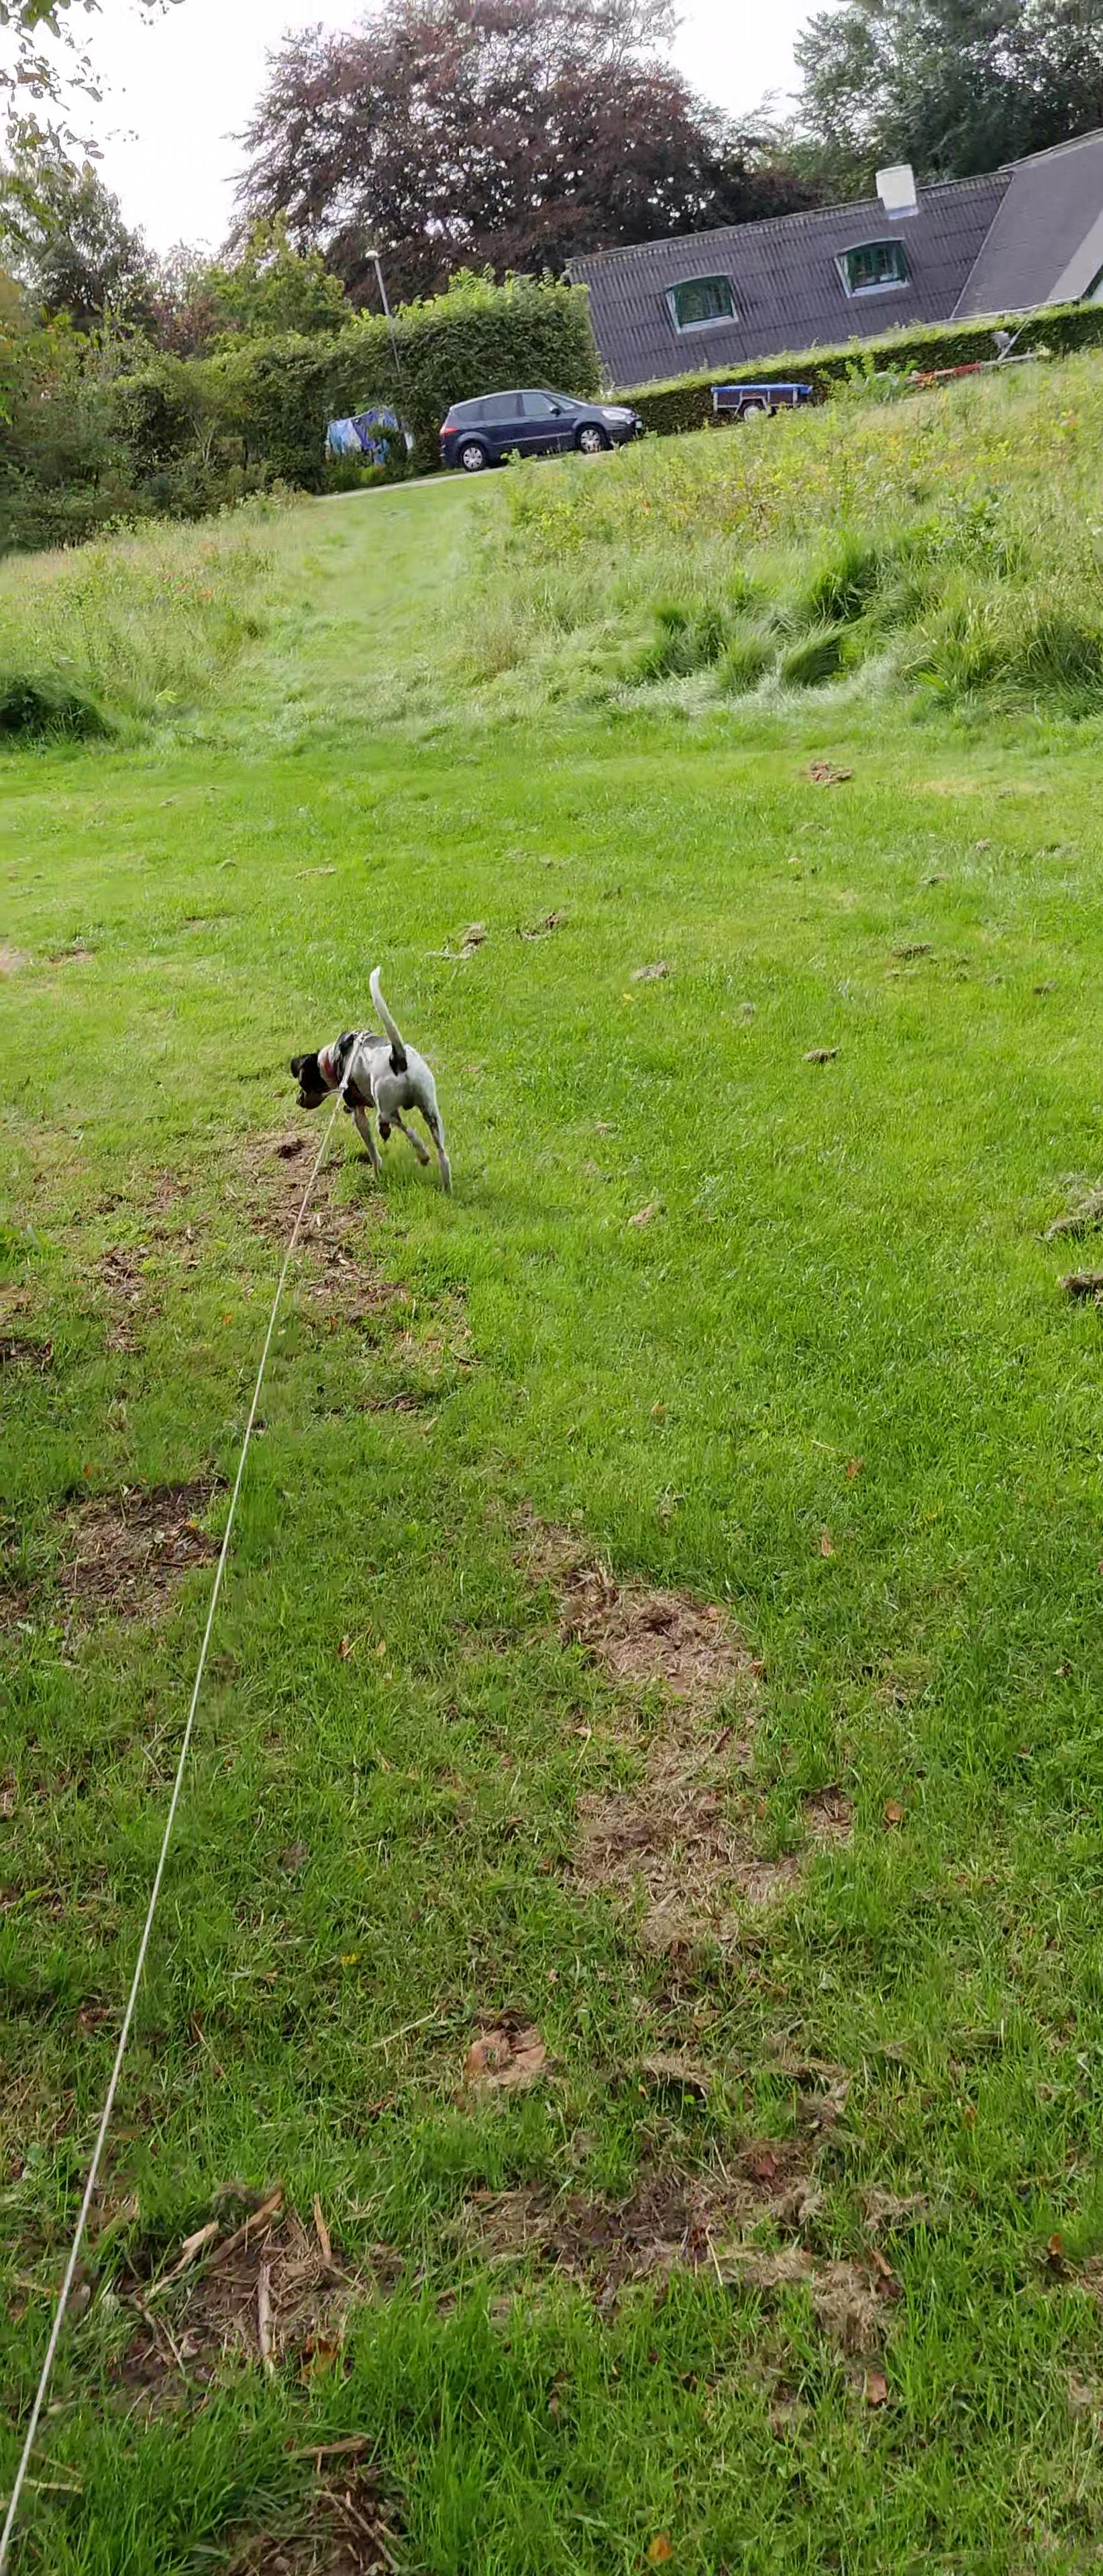Dog: (273, 956, 468, 1206)
